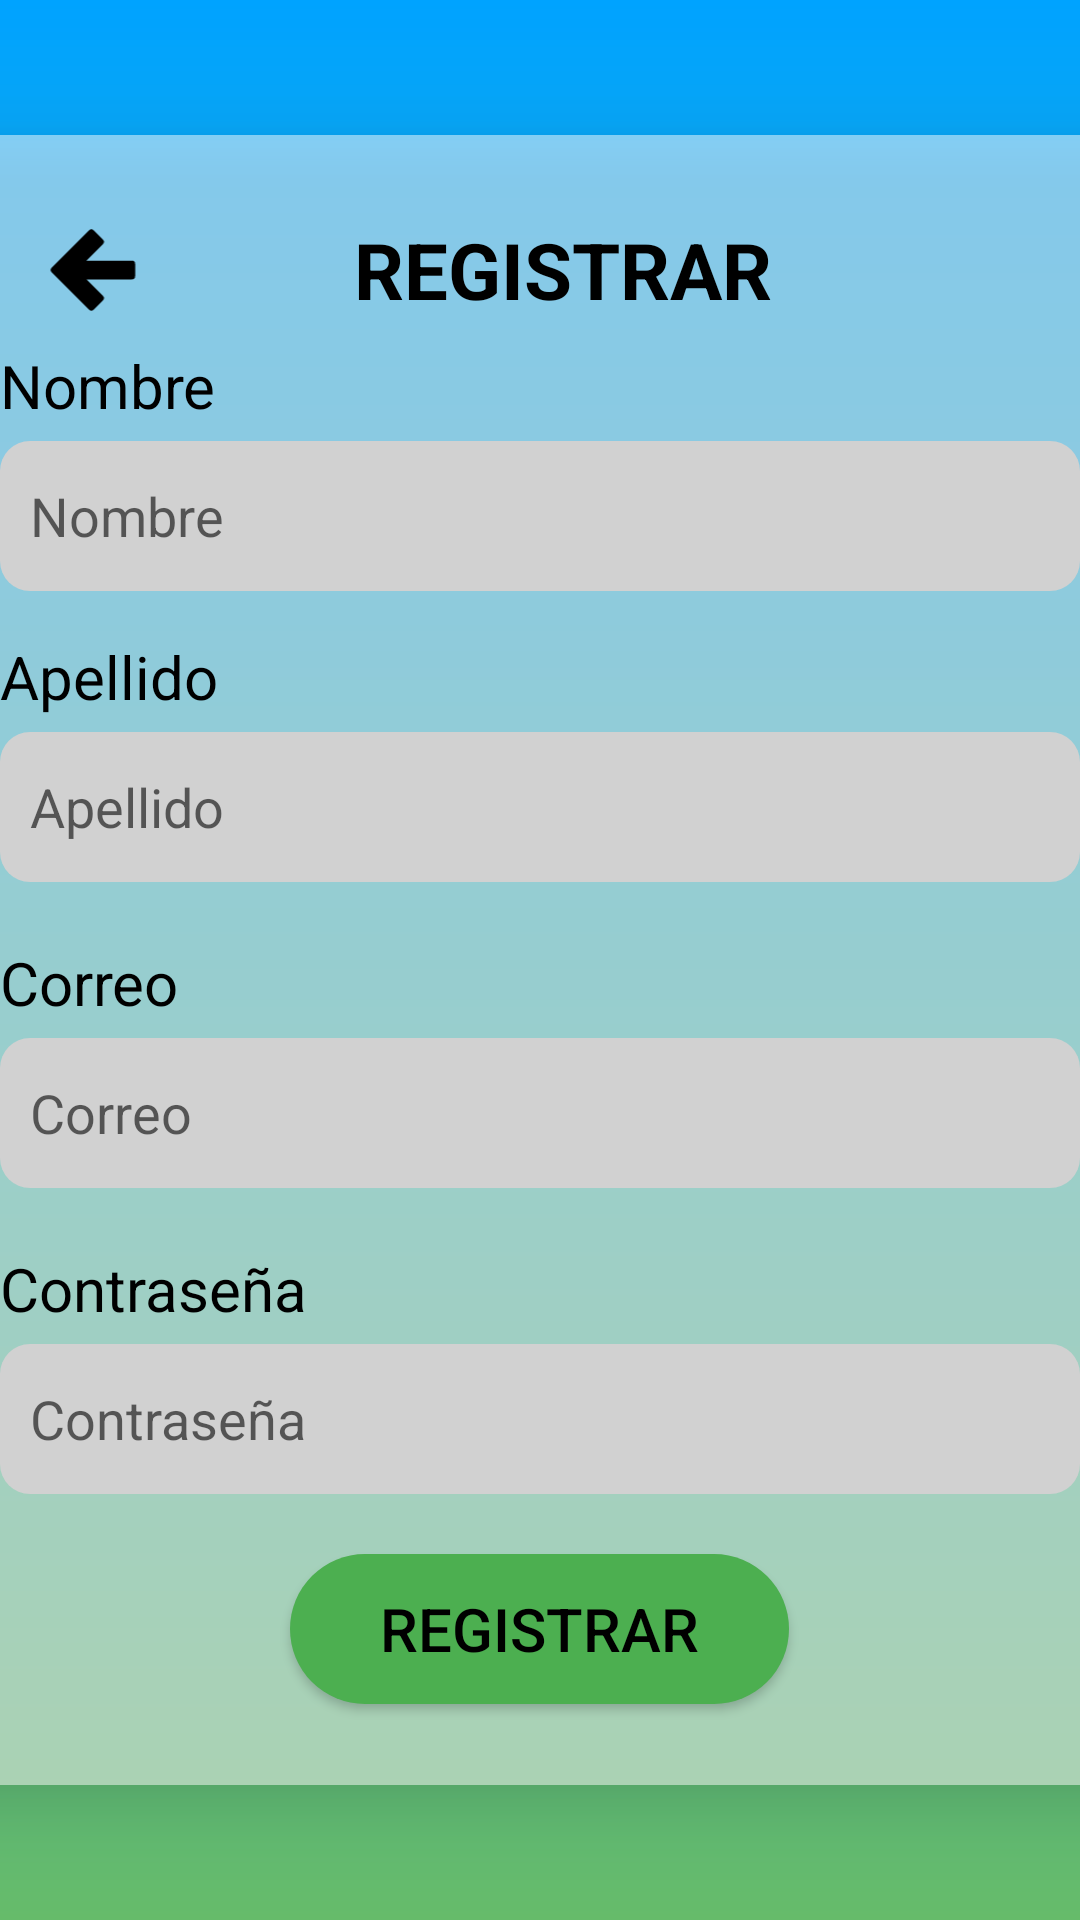

Screen size 1080px x 1920px. Icon name, then its center in pixels as point (x, y):
Botón de regreso: point (93, 270)
